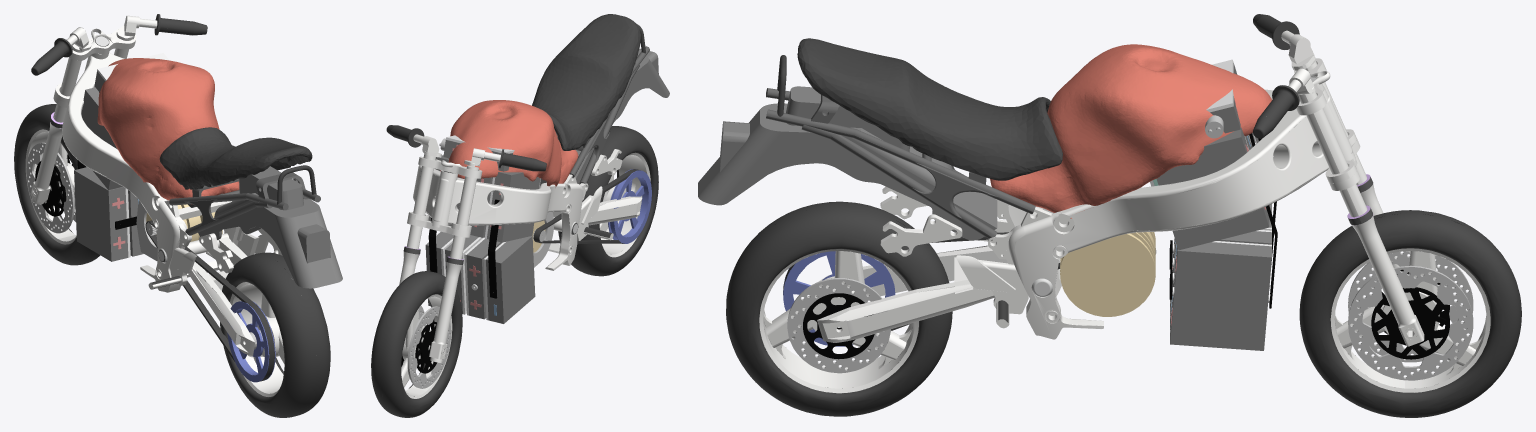
The picture shows the model from 3 angles, left to right: view 1: azimuth 30°, elevation 25°; view 2: azimuth 150°, elevation 25°; view 3: azimuth 270°, elevation 25°; orthographic projection. The views are drawn at different scales.
Visible parts, largest first — view 1: Coque, Roue_arriÃ¨re004, mesh28934_mesh, Cover_plastique, SiÃ¨ge, Composant1008, roue_avant, Chassis_arriÃ¨re001, Bras_oscillant, Roue_arriÃ¨re006, Courroie, Poulie_arriÃ¨re (+18 smaller); view 2: SiÃ¨ge, mesh28934_mesh, Coque, roue_avant, Roue_arriÃ¨re004, Composant1008, Poulie_arriÃ¨re, Cover_plastique, fourche007, Chassis_arriÃ¨re001, Composant1002, Roue_arriÃ¨re006 (+24 smaller); view 3: Coque, mesh28934_mesh, Roue_arriÃ¨re004, SiÃ¨ge, roue_avant, Cover_plastique, Composant1(SymÃ©trie_miroir)002, Roue_arriÃ¨re006, Bras_oscillant, ZF_75-10, Chassis_arriÃ¨re001, roue_avant002 (+17 smaller).
Boxes of the visible parts, x1,y1,x2,y2 form: Coque: (97, 58, 239, 204); Roue_arriÃ¨re004: (220, 252, 330, 417); mesh28934_mesh: (62, 52, 243, 292); Cover_plastique: (198, 166, 342, 288); SiÃ¨ge: (159, 127, 312, 189); Composant1008: (74, 167, 128, 261); roue_avant: (14, 104, 99, 265); Chassis_arriÃ¨re001: (169, 172, 320, 235); Bras_oscillant: (187, 233, 254, 355); Roue_arriÃ¨re006: (229, 282, 284, 396); Courroie: (145, 220, 274, 381); Poulie_arriÃ¨re: (227, 301, 275, 382); SiÃ¨ge: (532, 14, 640, 150); mesh28934_mesh: (413, 165, 588, 270); Coque: (448, 100, 578, 187); roue_avant: (371, 271, 462, 417); Roue_arriÃ¨re004: (558, 126, 658, 276); Composant1008: (486, 236, 535, 323); Poulie_arriÃ¨re: (608, 169, 651, 243); Cover_plastique: (556, 48, 669, 183); fourche007: (429, 262, 462, 359); Chassis_arriÃ¨re001: (554, 46, 649, 183); Composant1002: (487, 172, 540, 242); Roue_arriÃ¨re006: (599, 152, 650, 257); Coque: (990, 44, 1271, 218); mesh28934_mesh: (988, 86, 1355, 339); Roue_arriÃ¨re004: (726, 201, 952, 416); SiÃ¨ge: (797, 38, 1062, 180); roue_avant: (1299, 210, 1521, 417); Cover_plastique: (698, 86, 997, 240); Composant1(SymÃ©trie_miroir)002: (1170, 242, 1271, 350); Roue_arriÃ¨re006: (759, 249, 918, 393); Bras_oscillant: (817, 245, 1007, 342); ZF_75-10: (1060, 232, 1155, 316); Chassis_arriÃ¨re001: (766, 88, 1035, 240); roue_avant002: (1348, 265, 1473, 380).
Size of the model in its own units: 0.7397 by 1.1 by 2.22.
